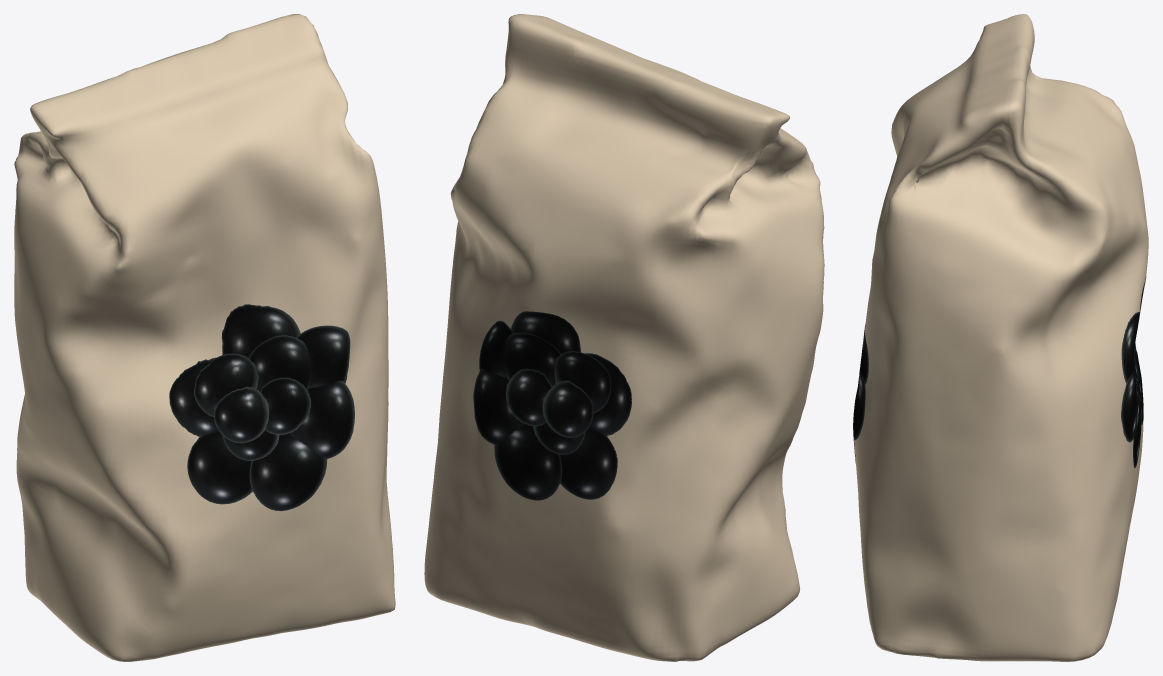
Rendered from BagdedPearl_Visual.fbx.
3 renders of one model, left to right at view 1: azimuth 30°, elevation 25°; view 2: azimuth 150°, elevation 25°; view 3: azimuth 270°, elevation 25°, orthographic. The views are drawn at different scales.
Parts seen in each view (by area): view 1: Bag, PearlLogo2; view 2: Bag, PearlLogo1; view 3: Bag, PearlLogo1, PearlLogo2.
Boxes of the visible parts, <box> form: Bag: <box>14,14,395,661</box>; PearlLogo2: <box>169,304,354,511</box>; Bag: <box>424,14,824,661</box>; PearlLogo1: <box>473,311,631,500</box>; Bag: <box>854,14,1148,661</box>; PearlLogo1: <box>1121,276,1146,468</box>; PearlLogo2: <box>853,325,868,463</box>.
Size of the model in its own units: 12.88 by 20 by 10.02.
